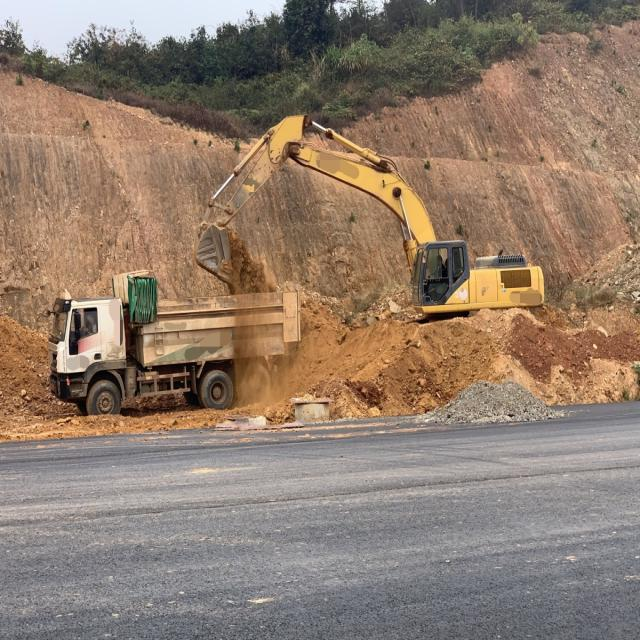excavator: (194, 114, 545, 314)
truck: (42, 268, 300, 416)
